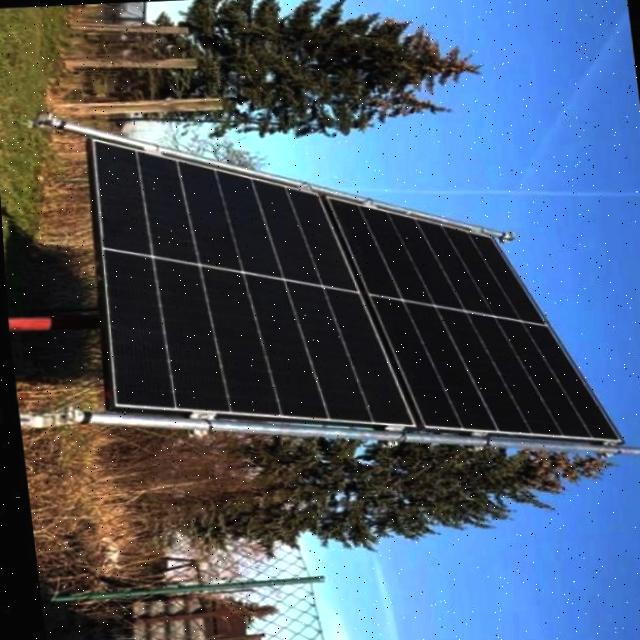Normal Solar Panel: (82, 113, 620, 467)
